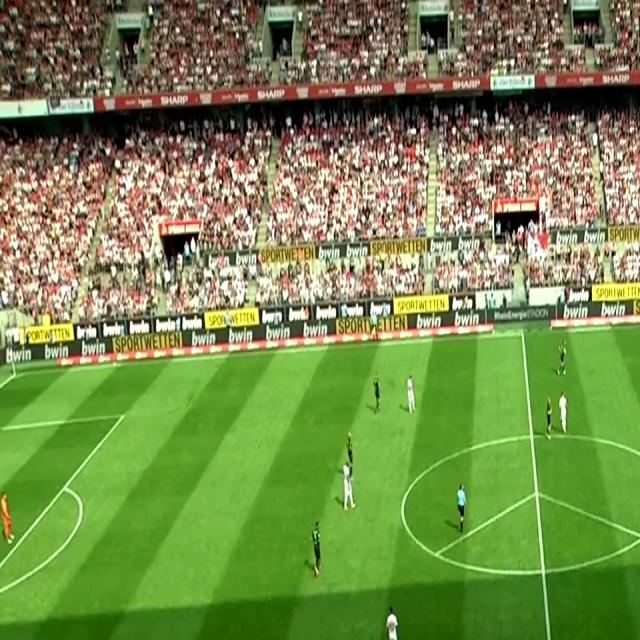goalkeeper: (0, 474, 21, 548)
referee: (452, 478, 470, 540)
soccer-player: (308, 508, 327, 592), (537, 384, 557, 445), (381, 603, 406, 640), (556, 383, 573, 437), (342, 458, 358, 508), (371, 364, 385, 418), (556, 326, 570, 380), (404, 371, 418, 415)
